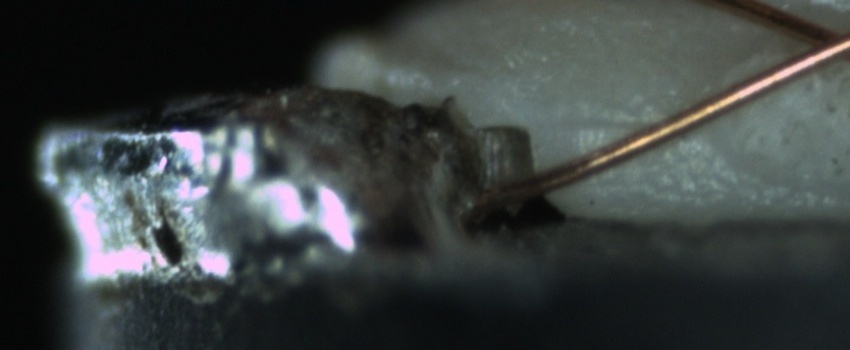CL: (775, 9, 849, 78)
DL: (550, 94, 679, 153)
